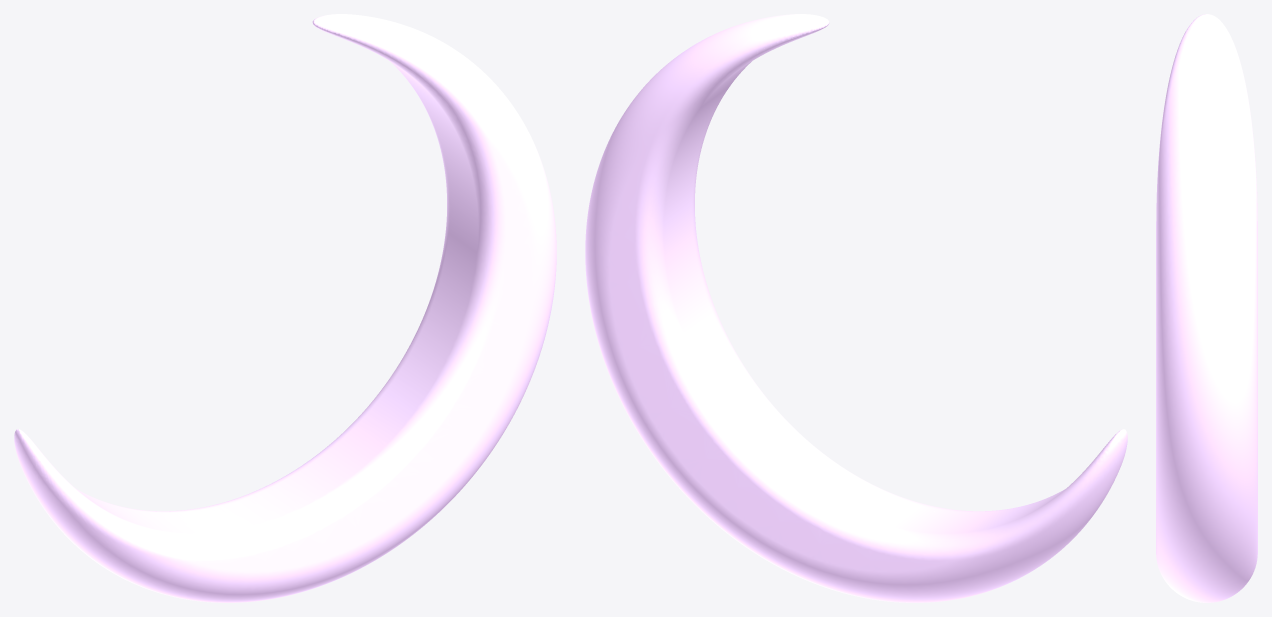
File: moon.glb
The picture shows the model from 3 angles, left to right: view 1: azimuth 30°, elevation 25°; view 2: azimuth 150°, elevation 25°; view 3: azimuth 270°, elevation 25°; orthographic projection. The views are drawn at different scales.
Parts seen in each view (by area): view 1: moon; view 2: moon; view 3: moon.
Part boxes in pixels (x1,y1,x2,y2): moon: [14, 14, 556, 602]; moon: [585, 14, 1127, 602]; moon: [1156, 14, 1257, 602].
Bounding box in the file's own units: 210 × 211 × 33.72.
1 material, 1 textured.
